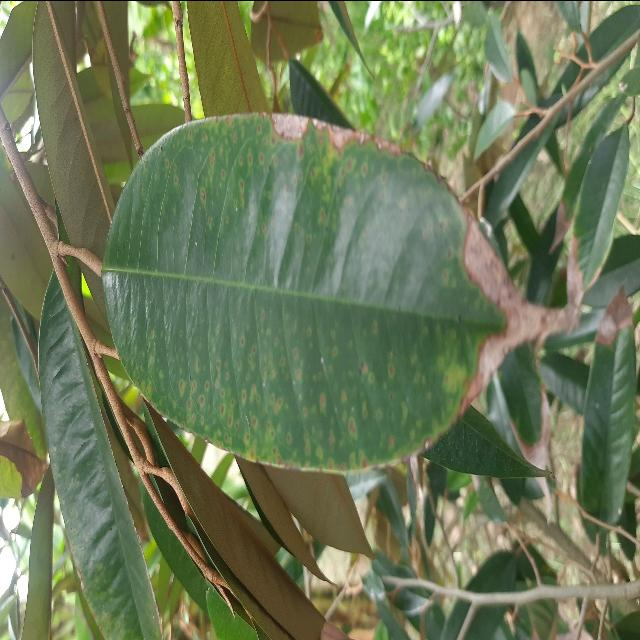Leaf Spot: (91, 105, 585, 489)
